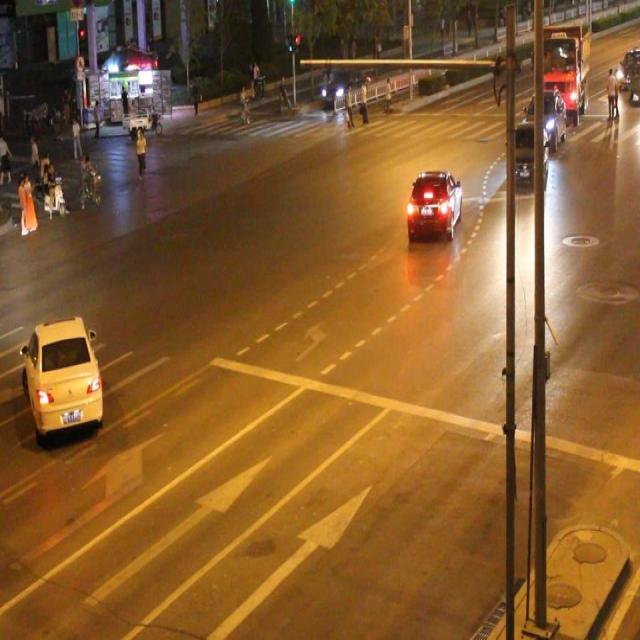car: (24, 313, 102, 432), (404, 167, 461, 241), (506, 122, 546, 186)
